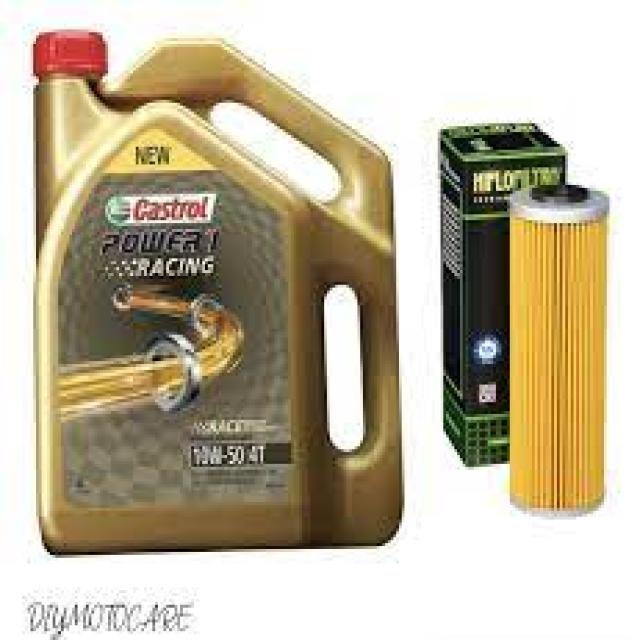motor_oil: (30, 25, 408, 556)
oil_filter: (509, 188, 615, 519)
